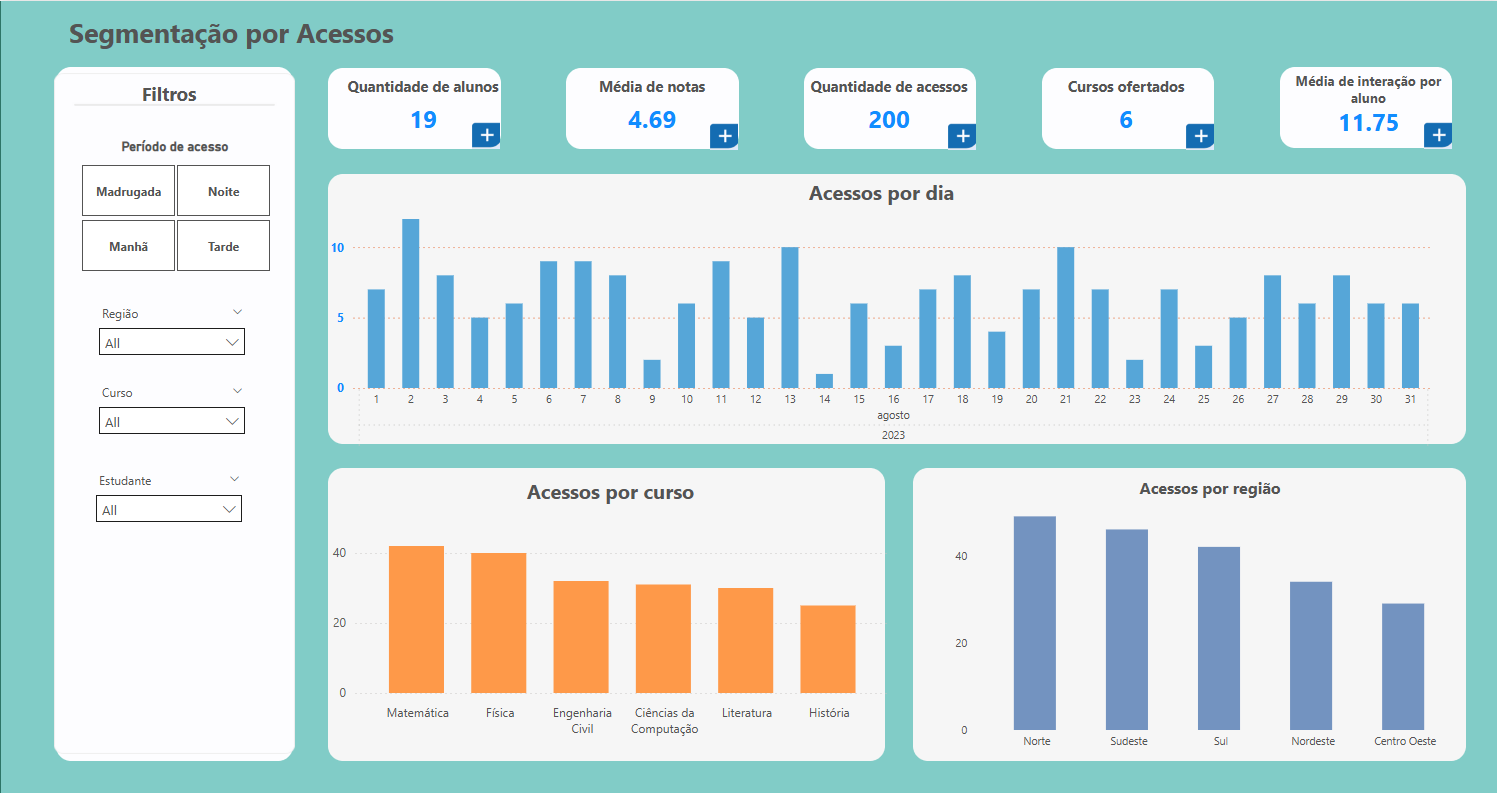

What the dashboard file says about the page in this screenshot:
{"tool":"powerbi","page":{"name":"Acessos","canvas":[1500,800],"ordinal":1},"visuals":[{"type":"image","title":"FF","box":[49,67,251,691],"z":0,"group":"g1"},{"type":"card","title":"Quantidade de acessos","fields":{"Values":["CountNonNull(powerbi_base_lms_2025-07-26.ID)"]},"box":[796,75,186,67],"z":0},{"type":"card","title":"Quantidade de alunos","fields":{"Values":["Count(powerbi_base_lms_2025-07-26.Estudante)"]},"box":[334,75,178,67],"z":1000},{"type":"card","title":"Média de notas","fields":{"Values":["Avg(powerbi_base_lms_2025-07-26.nota_num)"]},"box":[574,75,156,67],"z":2000},{"type":"group","id":"g1","title":"Group 1","box":[49,67,251,691],"z":3000},{"type":"card","title":"Cursos ofertados","fields":{"Values":["Count(powerbi_base_lms_2025-07-26.Curso)"]},"box":[1033,75,186,67],"z":4000},{"type":"textbox","box":[64,8,981,73],"z":5000},{"type":"slicer","fields":{"Values":["powerbi_base_lms_2025-07-26.Região"]},"box":[89,299,166,69],"z":5000,"group":"g1"},{"type":"clusteredColumnChart","title":"Acessos por dia","fields":{"Category":["powerbi_base_lms_2025-07-26.dia.Variation.Hierarquia de datas.Ano","powerbi_base_lms_2025-07-26.dia.Variation.Hierarquia de datas.Mês","powerbi_base_lms_2025-07-26.dia.Variation.Hierarquia de datas.Dia"],"Y":["CountNonNull(powerbi_base_lms_2025-07-26.ID)"]},"box":[325,177,1113,279],"z":6000},{"type":"slicer","fields":{"Values":["powerbi_base_lms_2025-07-26.Curso"]},"box":[89,378,166,69],"z":6000,"group":"g1"},{"type":"slicer","fields":{"Values":["powerbi_base_lms_2025-07-26.Estudante"]},"box":[86,466,166,69],"z":7000,"group":"g1"},{"type":"clusteredColumnChart","title":"Acessos por curso","fields":{"Y":["CountNonNull(powerbi_base_lms_2025-07-26.ID)"],"Category":["powerbi_base_lms_2025-07-26.Curso"]},"box":[325,476,571,267],"z":7000},{"type":"slicer","title":"Período de acesso","fields":{"Values":["powerbi_base_lms_2025-07-26.periodo"]},"box":[56,138,238,139],"z":8000,"group":"g1"},{"type":"clusteredColumnChart","title":"Acessos por região","fields":{"Category":["powerbi_base_lms_2025-07-26.Região"],"Y":["CountNonNull(powerbi_base_lms_2025-07-26.ID)"]},"box":[950,476,520,282],"z":8000},{"type":"card","title":"Média de interação por aluno","fields":{"Values":["Avg(powerbi_base_lms_2025-07-26.interacoes_estudante)"]},"box":[1280,71,177,67],"z":9000},{"type":"textbox","box":[86.1,75,171.3,53],"z":12000,"group":"g1"}]}

Visuals, with their boxes in screenshot pixels (x1, y1, x2, y2), scaled from the page's 1500x800 canvas onto the 1497x793 screenshot:
"FF" image: box=[49, 66, 299, 751]
"Quantidade de acessos" card: box=[794, 74, 980, 141]
"Quantidade de alunos" card: box=[333, 74, 511, 141]
"Média de notas" card: box=[573, 74, 729, 141]
"Group 1" group: box=[49, 66, 299, 751]
"Cursos ofertados" card: box=[1031, 74, 1217, 141]
textbox: box=[64, 8, 1043, 80]
slicer - powerbi_base_lms_2025-07-26.Região: box=[89, 296, 254, 365]
"Acessos por dia" clusteredColumnChart: box=[324, 175, 1435, 452]
slicer - powerbi_base_lms_2025-07-26.Curso: box=[89, 375, 254, 443]
slicer - powerbi_base_lms_2025-07-26.Estudante: box=[86, 462, 251, 530]
"Acessos por curso" clusteredColumnChart: box=[324, 472, 894, 736]
"Período de acesso" slicer: box=[56, 137, 293, 275]
"Acessos por região" clusteredColumnChart: box=[948, 472, 1467, 751]
"Média de interação por aluno" card: box=[1277, 70, 1454, 137]
textbox: box=[86, 74, 257, 127]
